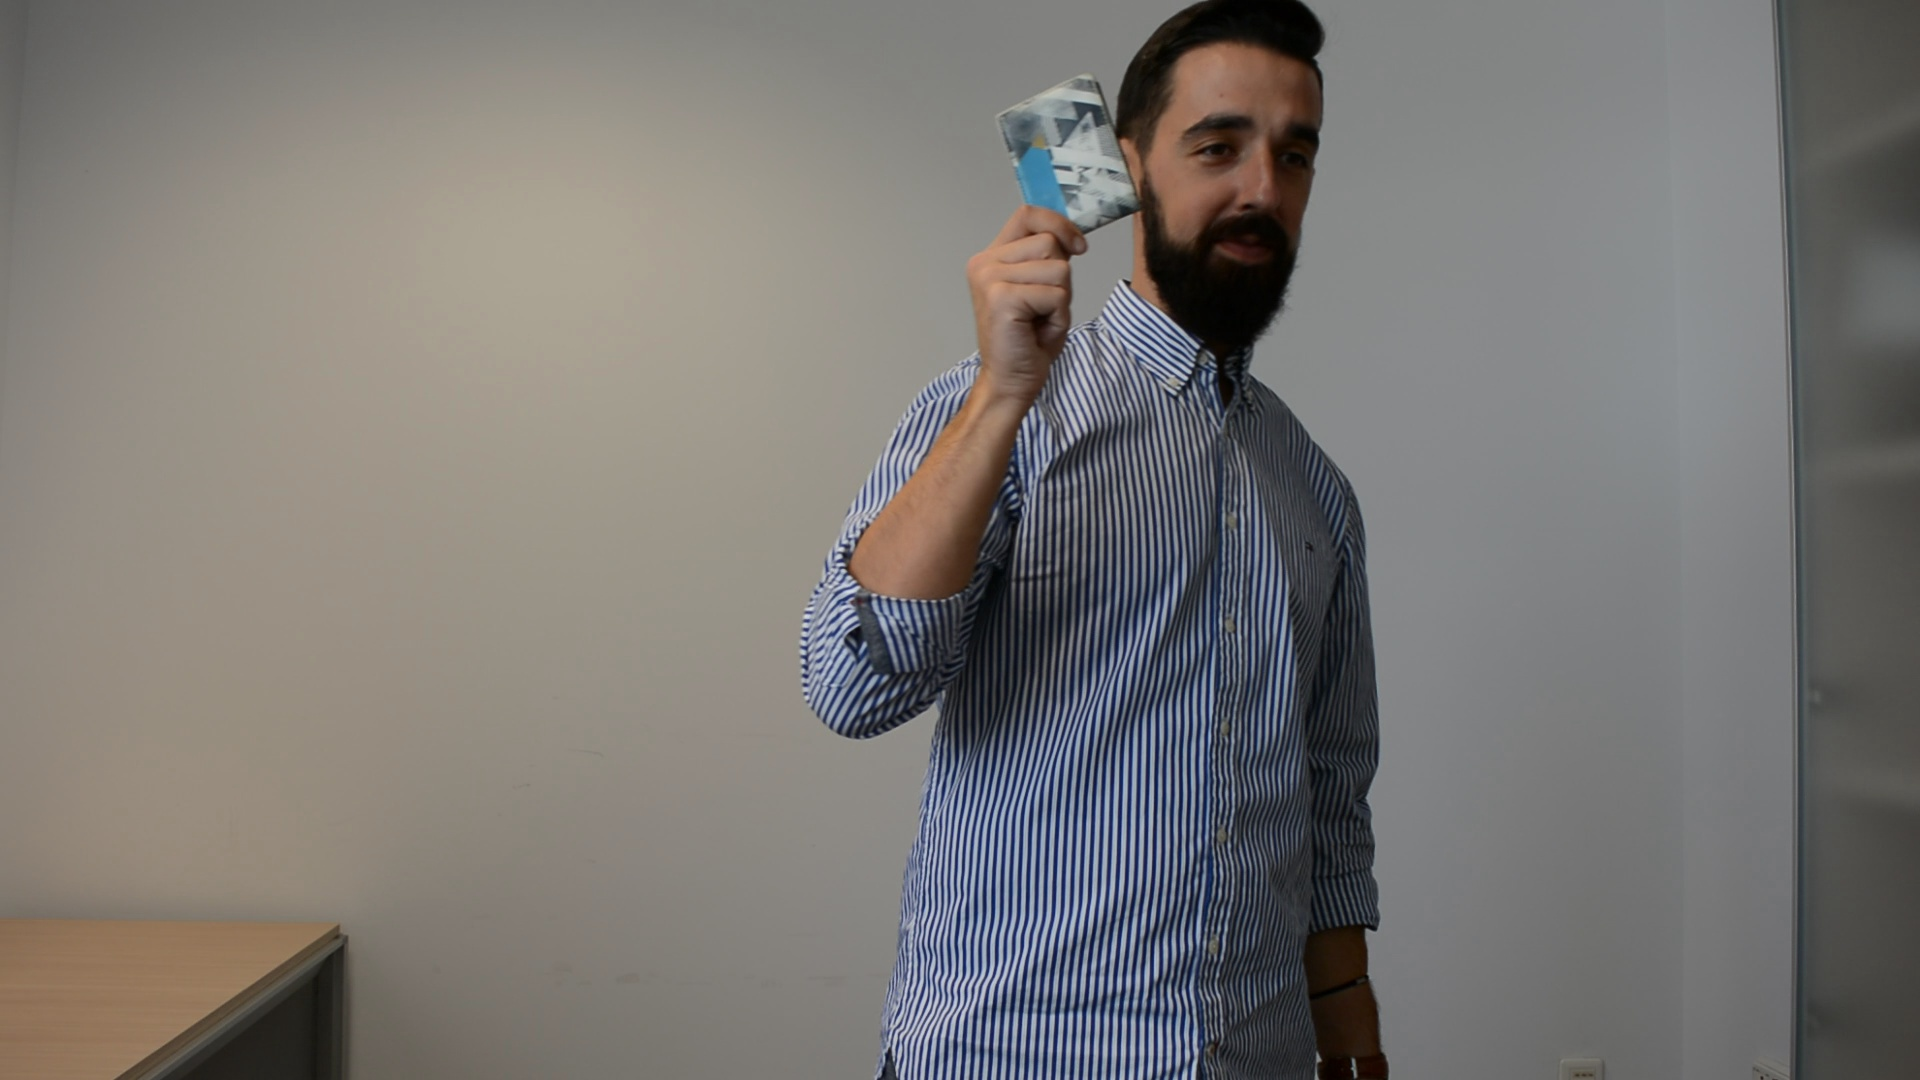monedero: (986, 73, 1146, 239)
